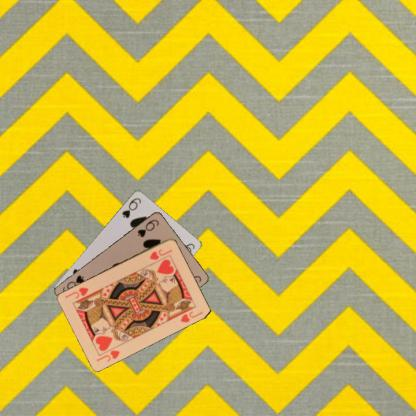6s: (119, 194, 142, 219), (135, 217, 160, 238)
Jh: (94, 347, 121, 363), (147, 246, 173, 261)
